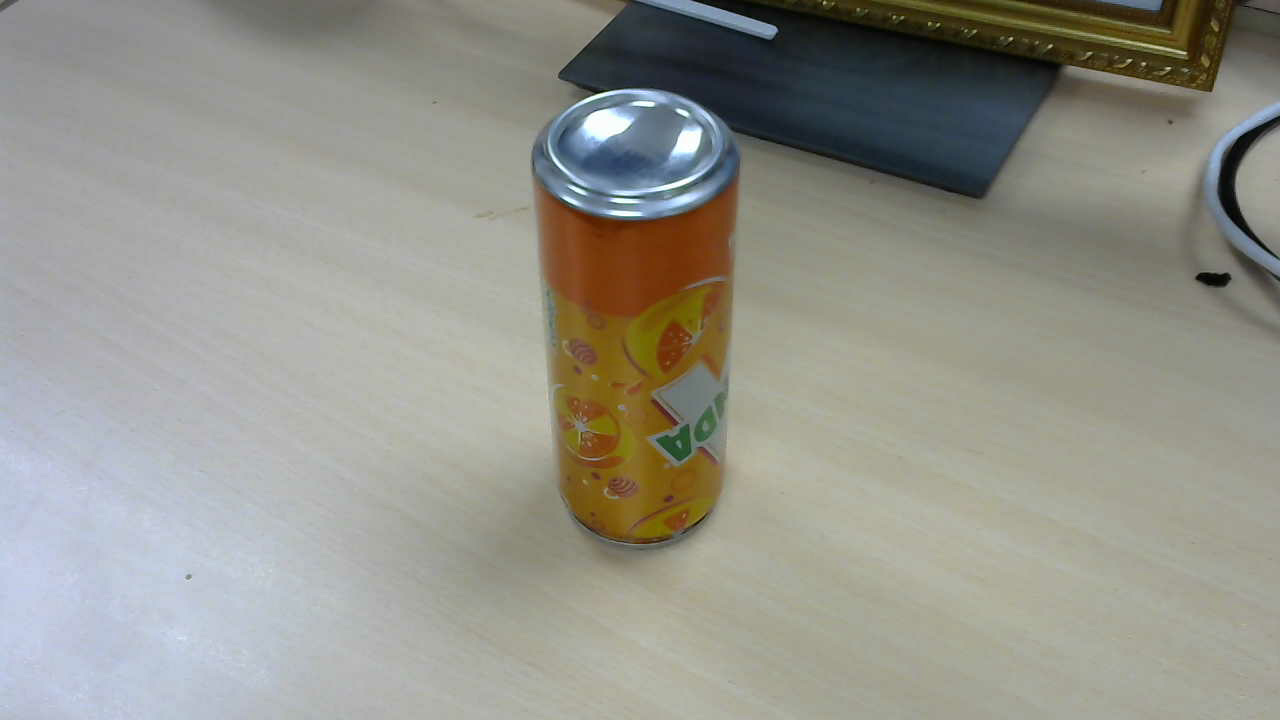Mirinda: (534, 94, 749, 554)
